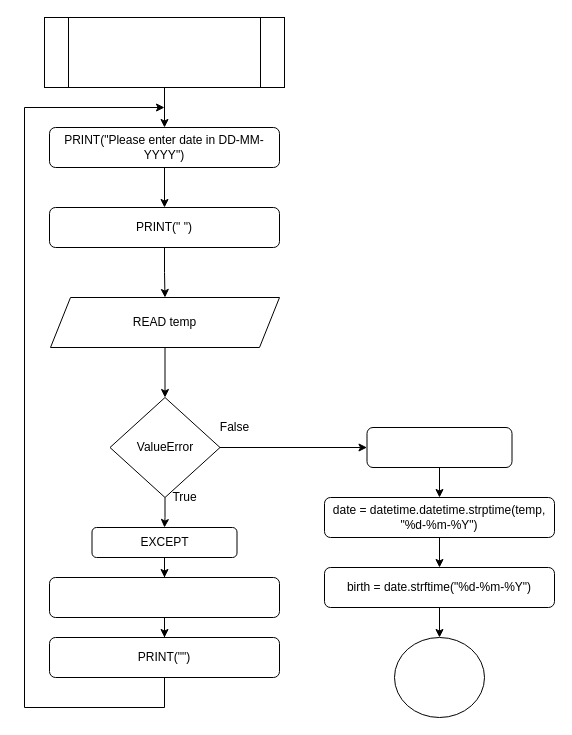
The diagram is 572 pixels wide and 735 high, and some of its shapes have lost their labels. Each missing label, with the centre of its shape:
FUNCTION validation_date(): (164,52)
PRINT("Error! Incorrect date format"): (164,597)
RETURN birth: (439,677)
TRY: (439,447)
